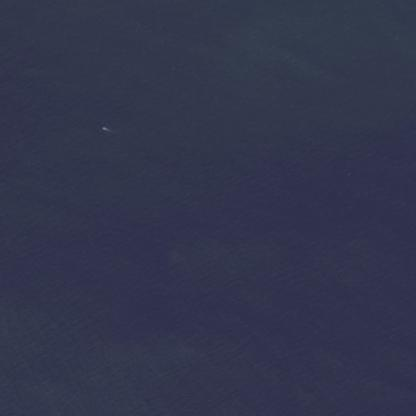ship: (95, 122, 115, 134)
